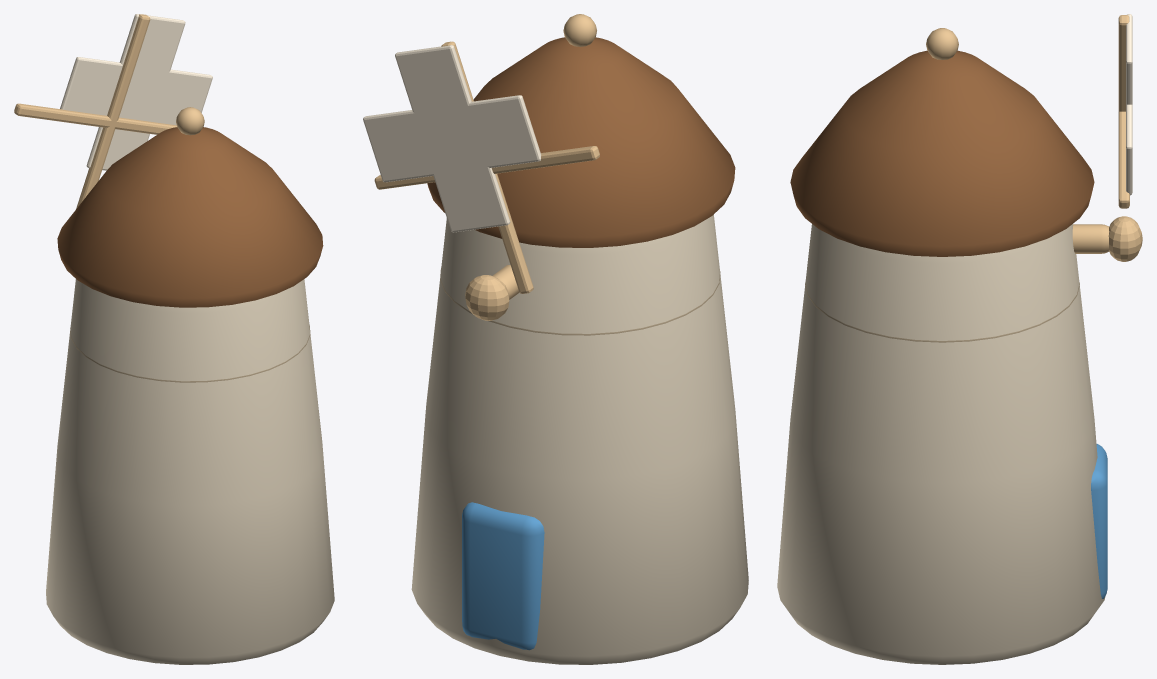
The model's file is ow_windmill.glb.
3 renders of one model, left to right at view 1: azimuth 30°, elevation 25°; view 2: azimuth 150°, elevation 25°; view 3: azimuth 270°, elevation 25°, orthographic. The views are drawn at different scales.
Visible parts, largest first — view 1: Windmill, Sails; view 2: Windmill, Sails; view 3: Windmill, Sails.
Boxes of the visible parts, x1=… form: Windmill: x1=46, y1=107, x2=334, y2=664; Sails: x1=14, y1=14, x2=212, y2=208; Windmill: x1=411, y1=14, x2=748, y2=664; Sails: x1=363, y1=41, x2=599, y2=320; Windmill: x1=777, y1=28, x2=1109, y2=664; Sails: x1=1108, y1=14, x2=1142, y2=261.
Size of the model in its own units: 2 by 4.01 by 2.21.
